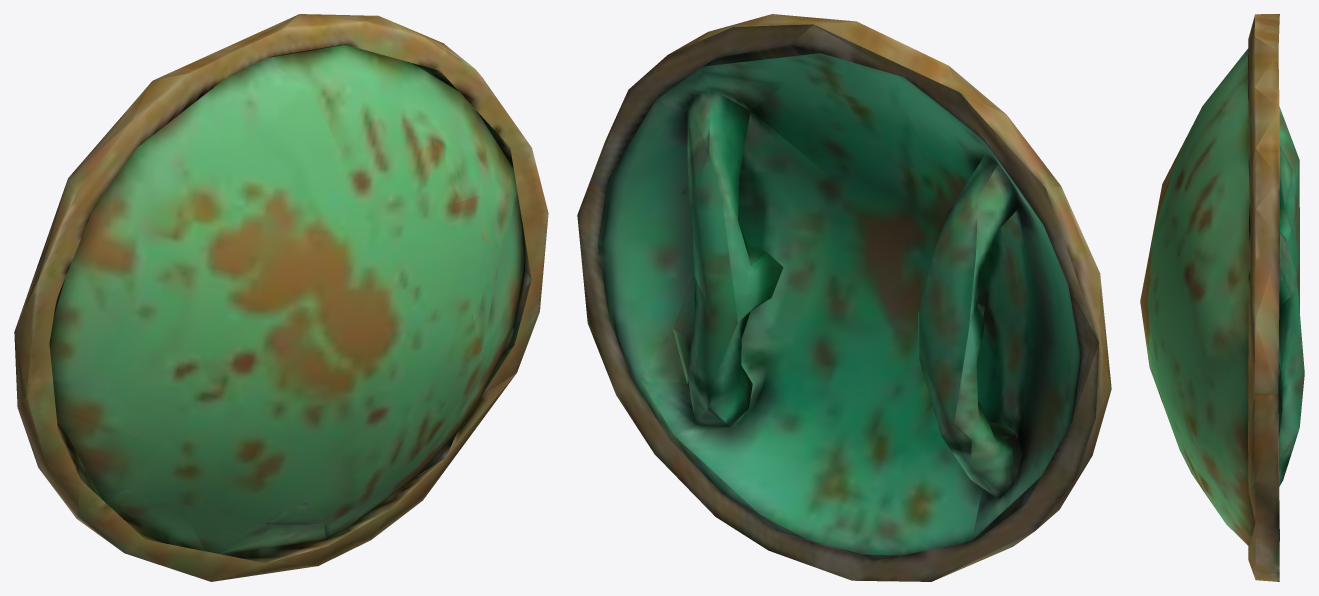
The model's file is wpn_shield1.glb.
The picture shows the model from 3 angles, left to right: view 1: azimuth 30°, elevation 25°; view 2: azimuth 150°, elevation 25°; view 3: azimuth 270°, elevation 25°; orthographic projection. The views are drawn at different scales.
Bounding box in the file's own units: 1.91 × 1.91 × 0.5526.
Materials: 1 (1 with a texture image).
